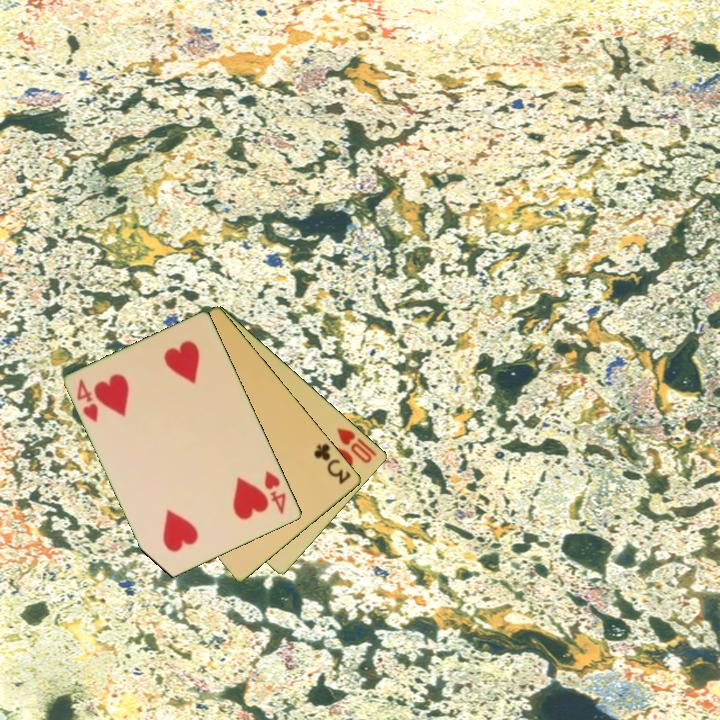10h: (333, 424, 380, 466)
3c: (310, 440, 354, 487)
4h: (73, 375, 102, 425), (261, 467, 289, 517)
